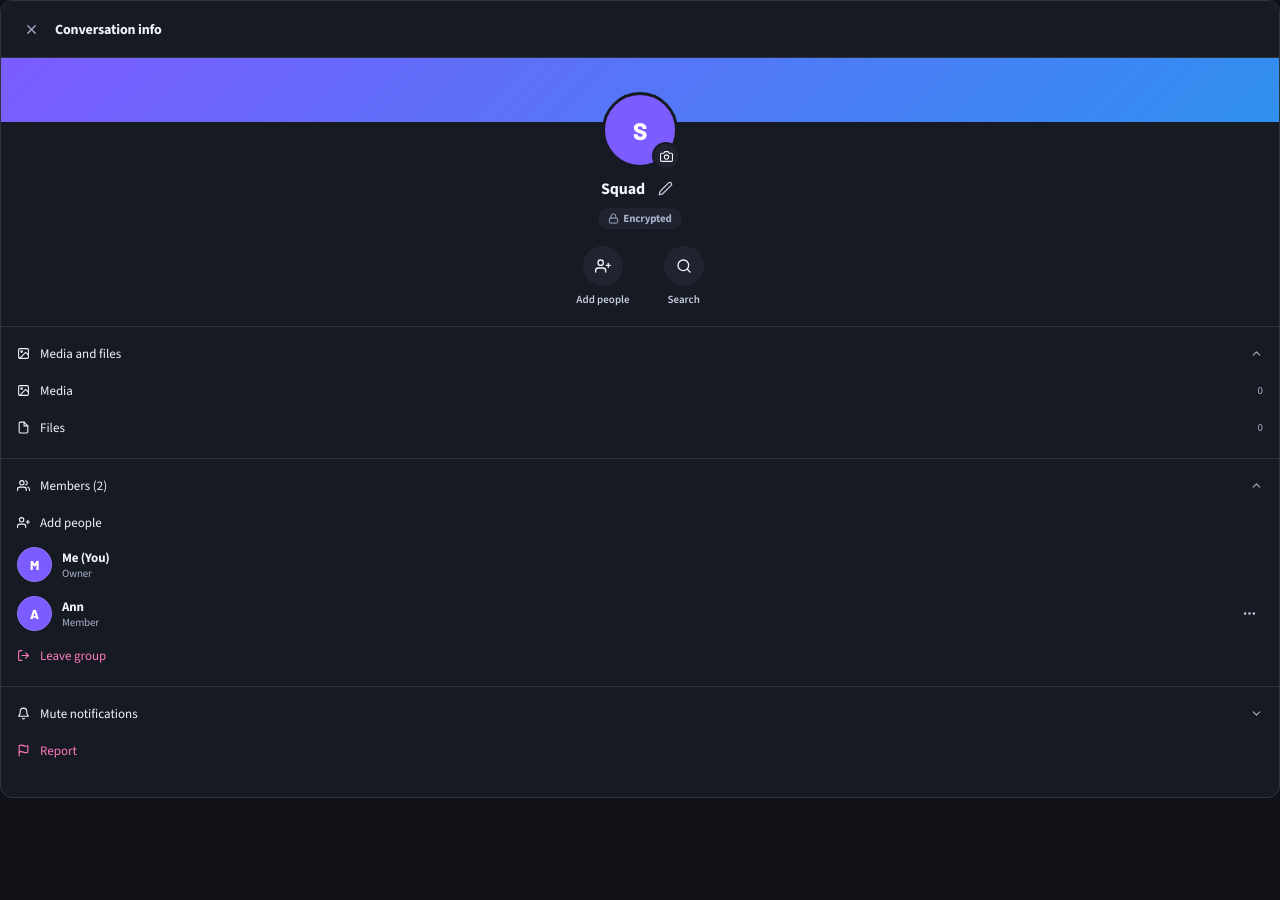
Test case: ConversationInfoPanel blocking › layout › puts Add people there for a group owner, and it opens the members and the picker
Click the button "Members (2)".
click(74, 486)  # box [9,467,1271,504]
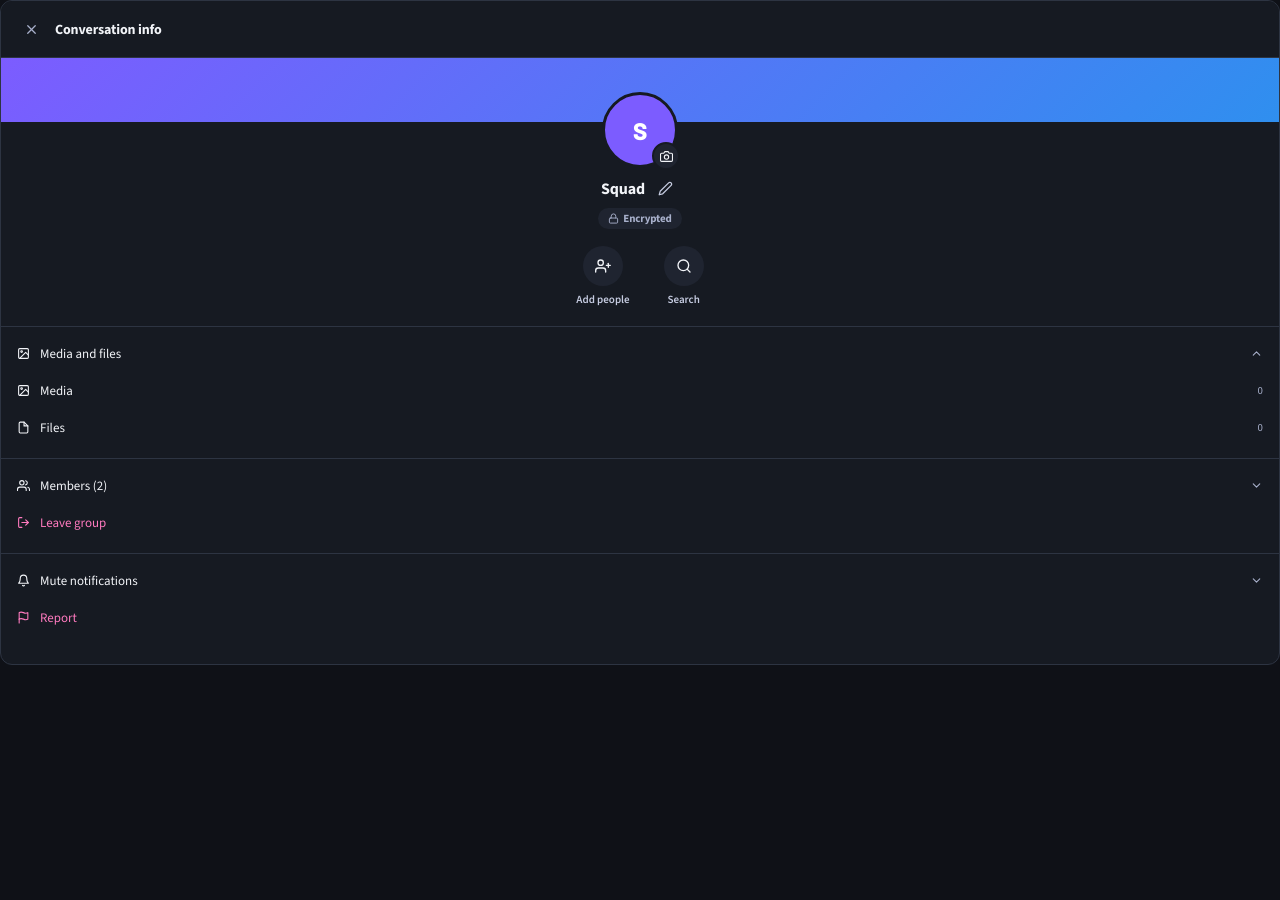
Result: the text "Ann" is gone
Click the button "Add people".
click(603, 276)  # box [570,245,636,308]
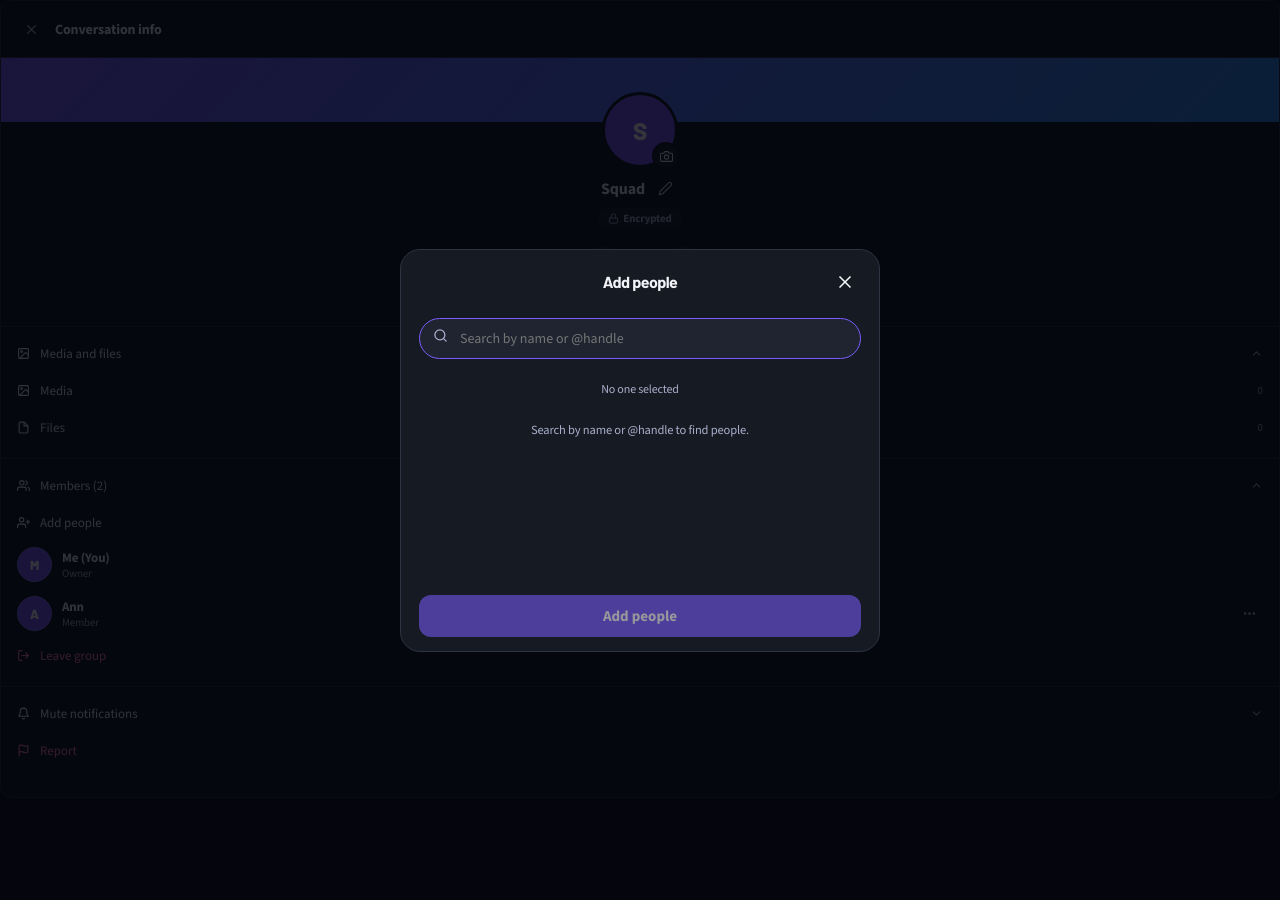
Result: the text "Ann" is shown at [62,598,84,614]
Result: the dialog "Add people" is shown at [400,248,880,652]
